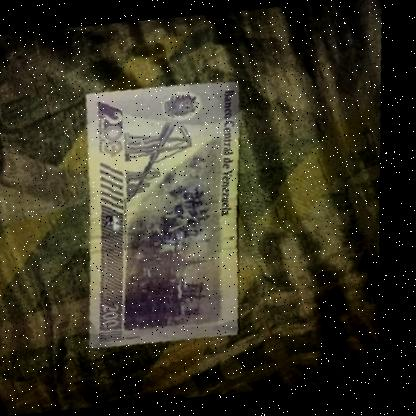two_hundred-back-vef: (49, 65, 286, 361)
